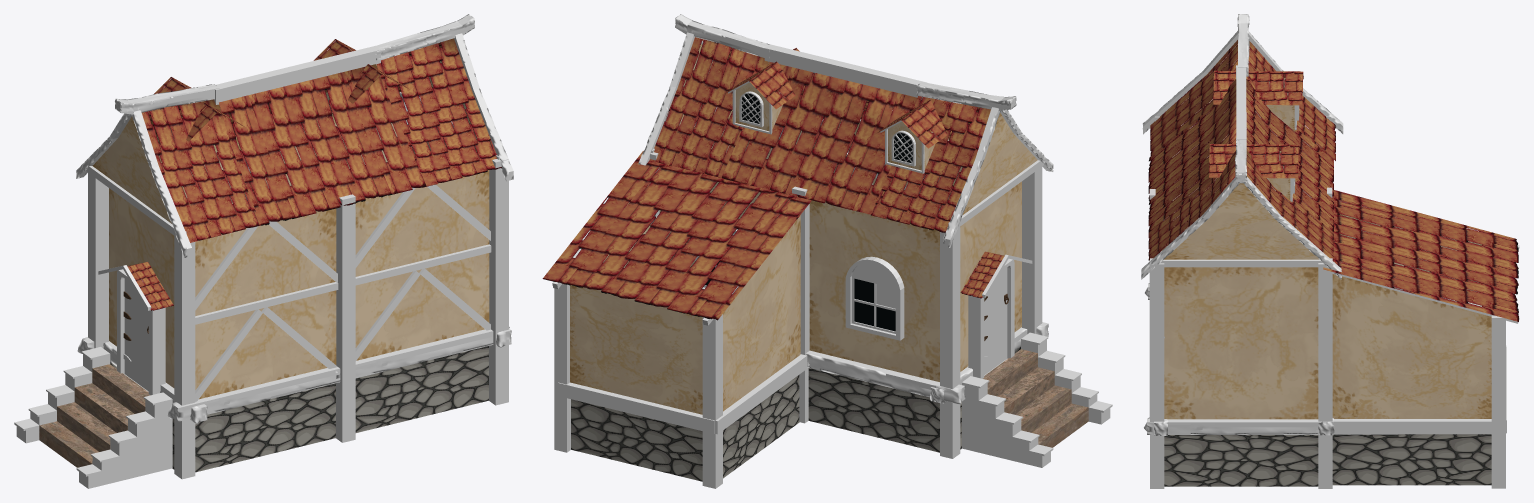
The model's file is house_2.fbx.
3 views of the same model, side by side, from view 1: azimuth 30°, elevation 25°; view 2: azimuth 150°, elevation 25°; view 3: azimuth 270°, elevation 25° (orthographic). The views are drawn at different scales.
Parts seen in each view (by area): view 1: Plane.024, Plane.1651, Plane.020, Cube.066, Cube.067, Cube.070, Plane.034, Plane.050, Plane.167, Plane.081, Cube.059, Cube.057 (+5 smaller); view 2: Plane.104, Plane.026, Plane.1651, Cube.066, Cube.070, Cube.067, Plane.027, Plane.102, Plane.167, Plane.081, Cube.056, Plane.101 (+7 smaller); view 3: Plane.104, Plane.001, Cube.067, Plane.1651, Plane.103, Plane.033, Cube.066, Cube.058, Cube.055, Cube.331, Cube.332, Cube.102.
Part boxes in pixels (box(x1,y1,x2,y2)): Plane.024: box(167, 208, 340, 421); Plane.1651: box(214, 46, 426, 225); Plane.020: box(335, 170, 509, 383); Cube.066: box(76, 84, 260, 257); Cube.067: box(331, 14, 513, 187); Cube.070: box(14, 347, 172, 488); Plane.034: box(195, 383, 335, 472); Plane.050: box(355, 346, 488, 432); Plane.167: box(109, 188, 174, 387); Plane.081: box(103, 269, 207, 423); Cube.059: box(336, 194, 355, 442); Cube.057: box(174, 236, 195, 479); Plane.104: box(542, 151, 811, 434); Plane.026: box(805, 200, 965, 404); Plane.1651: box(721, 44, 951, 214); Cube.066: box(871, 82, 1053, 247); Cube.070: box(962, 332, 1112, 467); Cube.067: box(638, 14, 802, 177); Plane.027: box(808, 368, 939, 452); Plane.102: box(571, 399, 702, 481); Plane.167: box(960, 181, 1021, 371); Plane.081: box(930, 258, 1027, 403); Cube.056: box(940, 227, 960, 458); Plane.101: box(723, 375, 799, 478); Plane.104: box(1323, 190, 1519, 434); Plane.001: box(1144, 267, 1334, 434); Cube.067: box(1141, 138, 1341, 279); Plane.1651: box(1148, 65, 1333, 232); Plane.103: box(1332, 434, 1491, 485); Plane.033: box(1164, 435, 1318, 486); Cube.066: box(1142, 14, 1343, 160); Cube.058: box(1150, 258, 1164, 488); Cube.055: box(1318, 258, 1332, 488); Cube.331: box(1213, 70, 1303, 131); Cube.332: box(1209, 144, 1299, 203); Cube.102: box(1491, 315, 1505, 488).
Size of the model in its own units: 187 by 148 by 157.
Materials: 8 (5 with a texture image).
